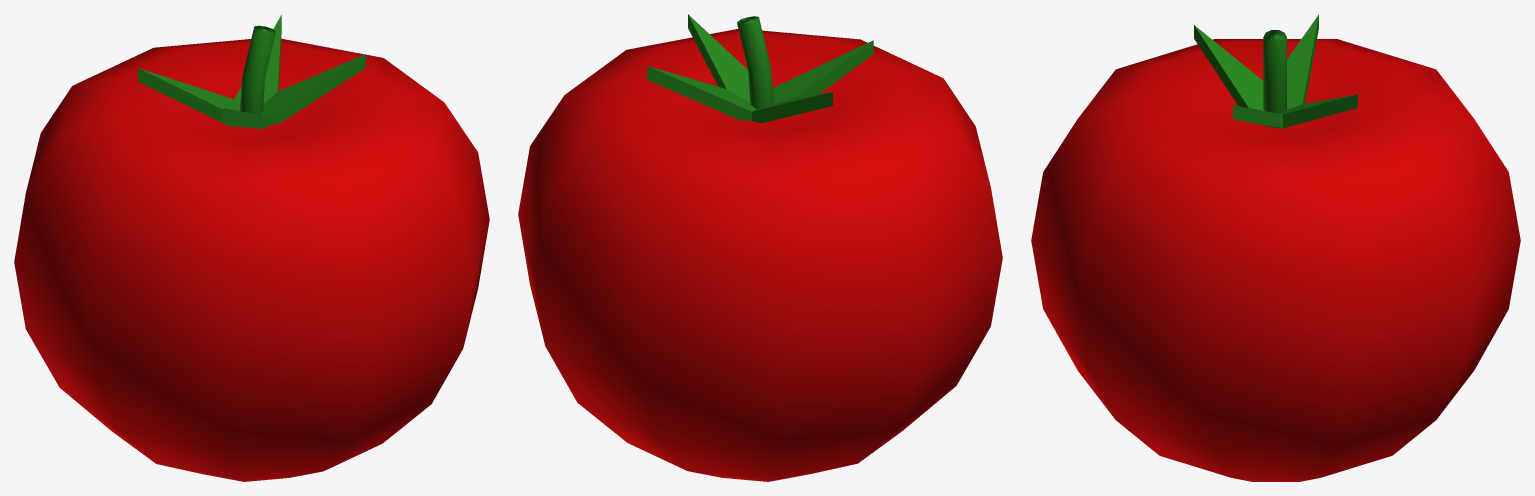
File: Tomato.fbx
The picture shows the model from 3 angles, left to right: view 1: azimuth 30°, elevation 25°; view 2: azimuth 150°, elevation 25°; view 3: azimuth 270°, elevation 25°; orthographic projection.
Visible parts, largest first — view 1: Sphere, Cube.001, Cylinder, Cube; view 2: Sphere, Cube, Cube.001, Cylinder; view 3: Sphere, Cube, Cube.001, Cylinder.
Boxes of the visible parts, x1,y1,x2,y2 form: Sphere: (14, 38, 489, 481); Cube.001: (138, 54, 365, 127); Cylinder: (240, 25, 275, 114); Cube: (222, 15, 281, 128); Sphere: (518, 29, 1002, 481); Cube: (647, 40, 873, 120); Cube.001: (688, 14, 832, 123); Cylinder: (737, 16, 773, 109); Sphere: (1031, 39, 1520, 481); Cube: (1194, 25, 1357, 128); Cube.001: (1233, 14, 1318, 128); Cylinder: (1263, 30, 1286, 113).
Size of the model in its own units: 7.61 by 7.83 by 8.
